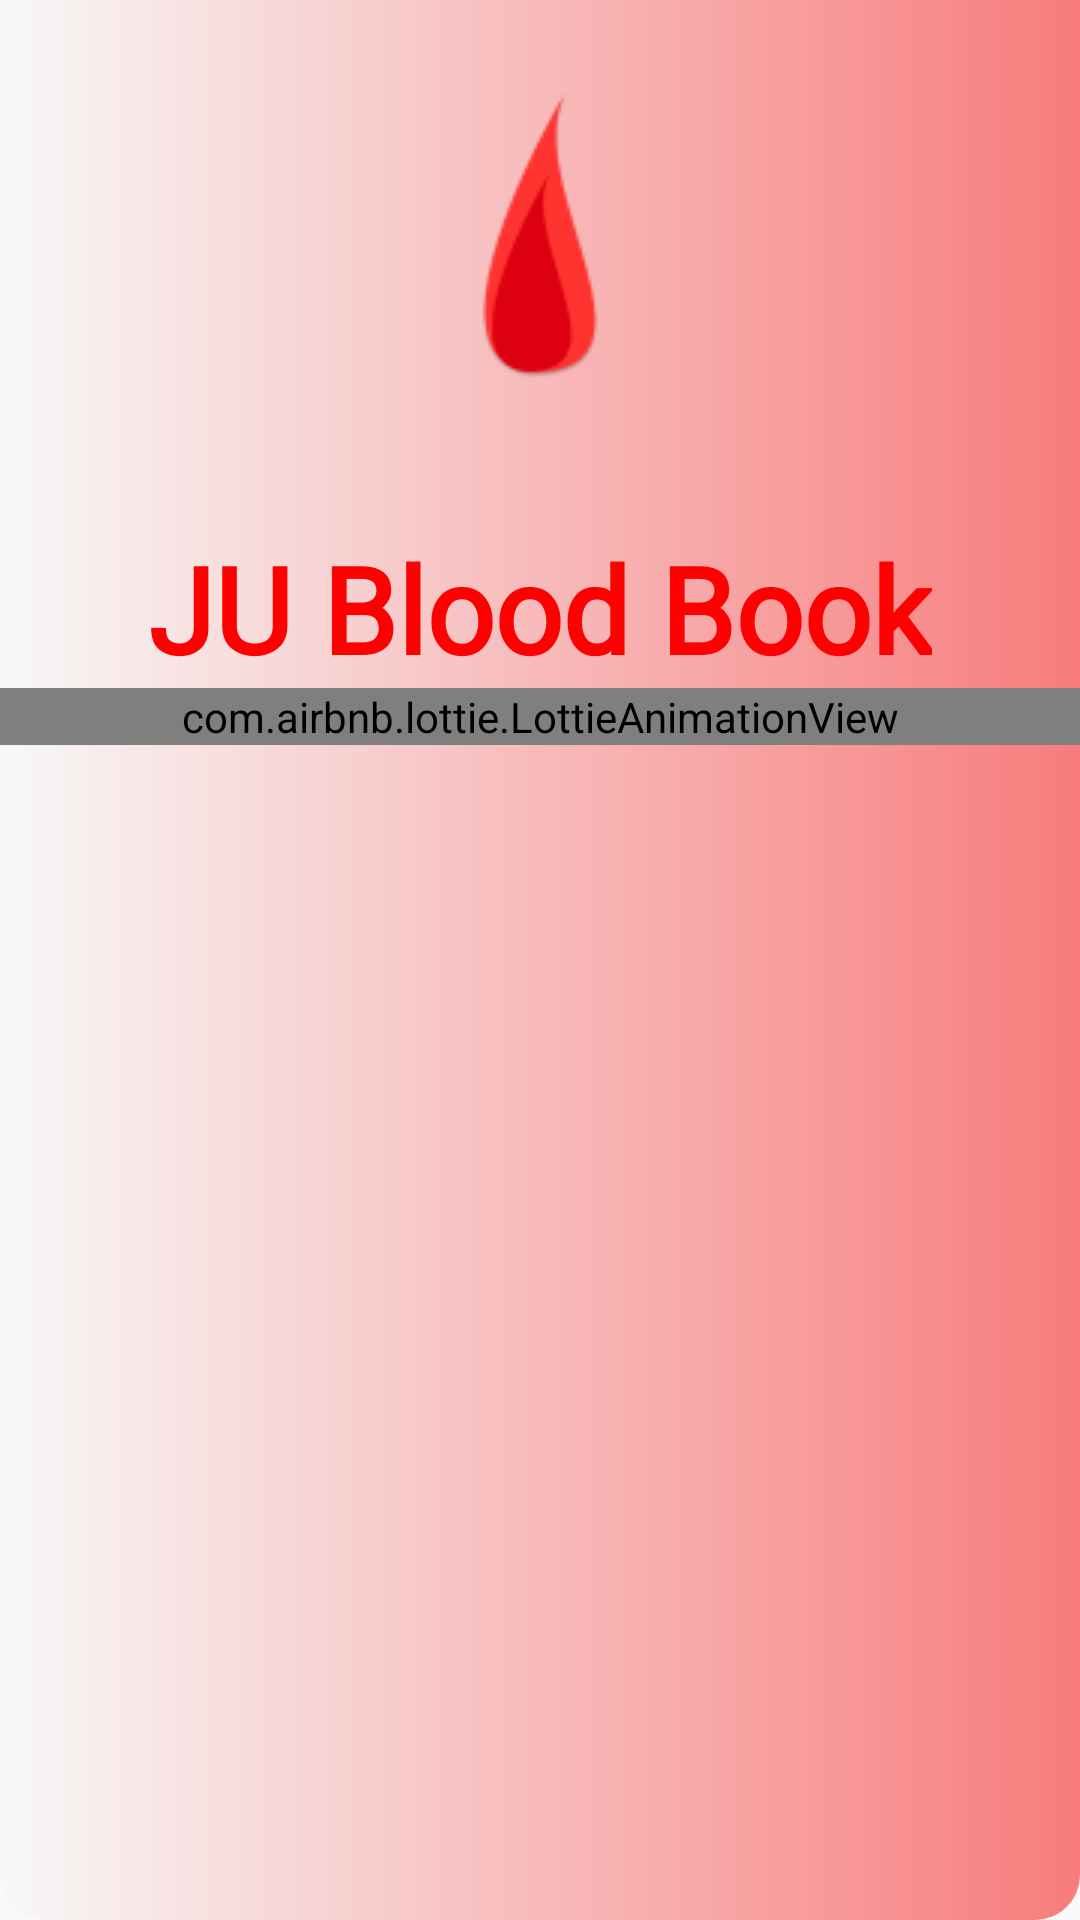

Locate icon controls on the screen. Image size 1080×1920, boxes as (x1, y1, x2, y2).
blood drop: (396, 90, 597, 378)
